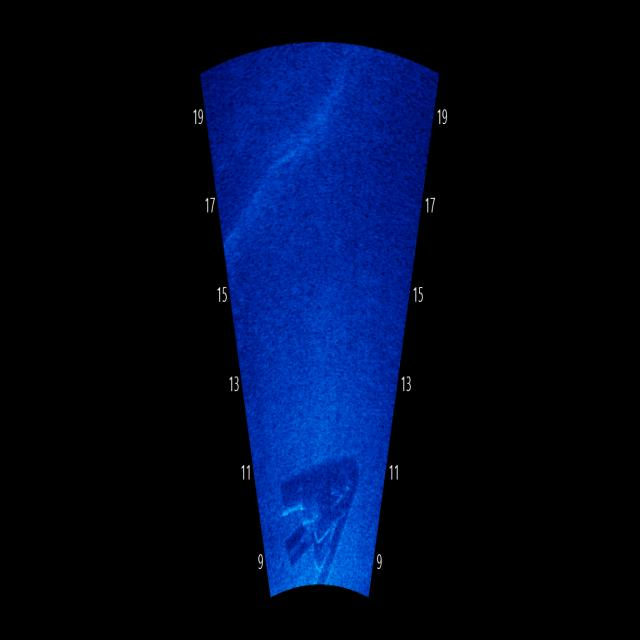triangle: (274, 401, 364, 587)
